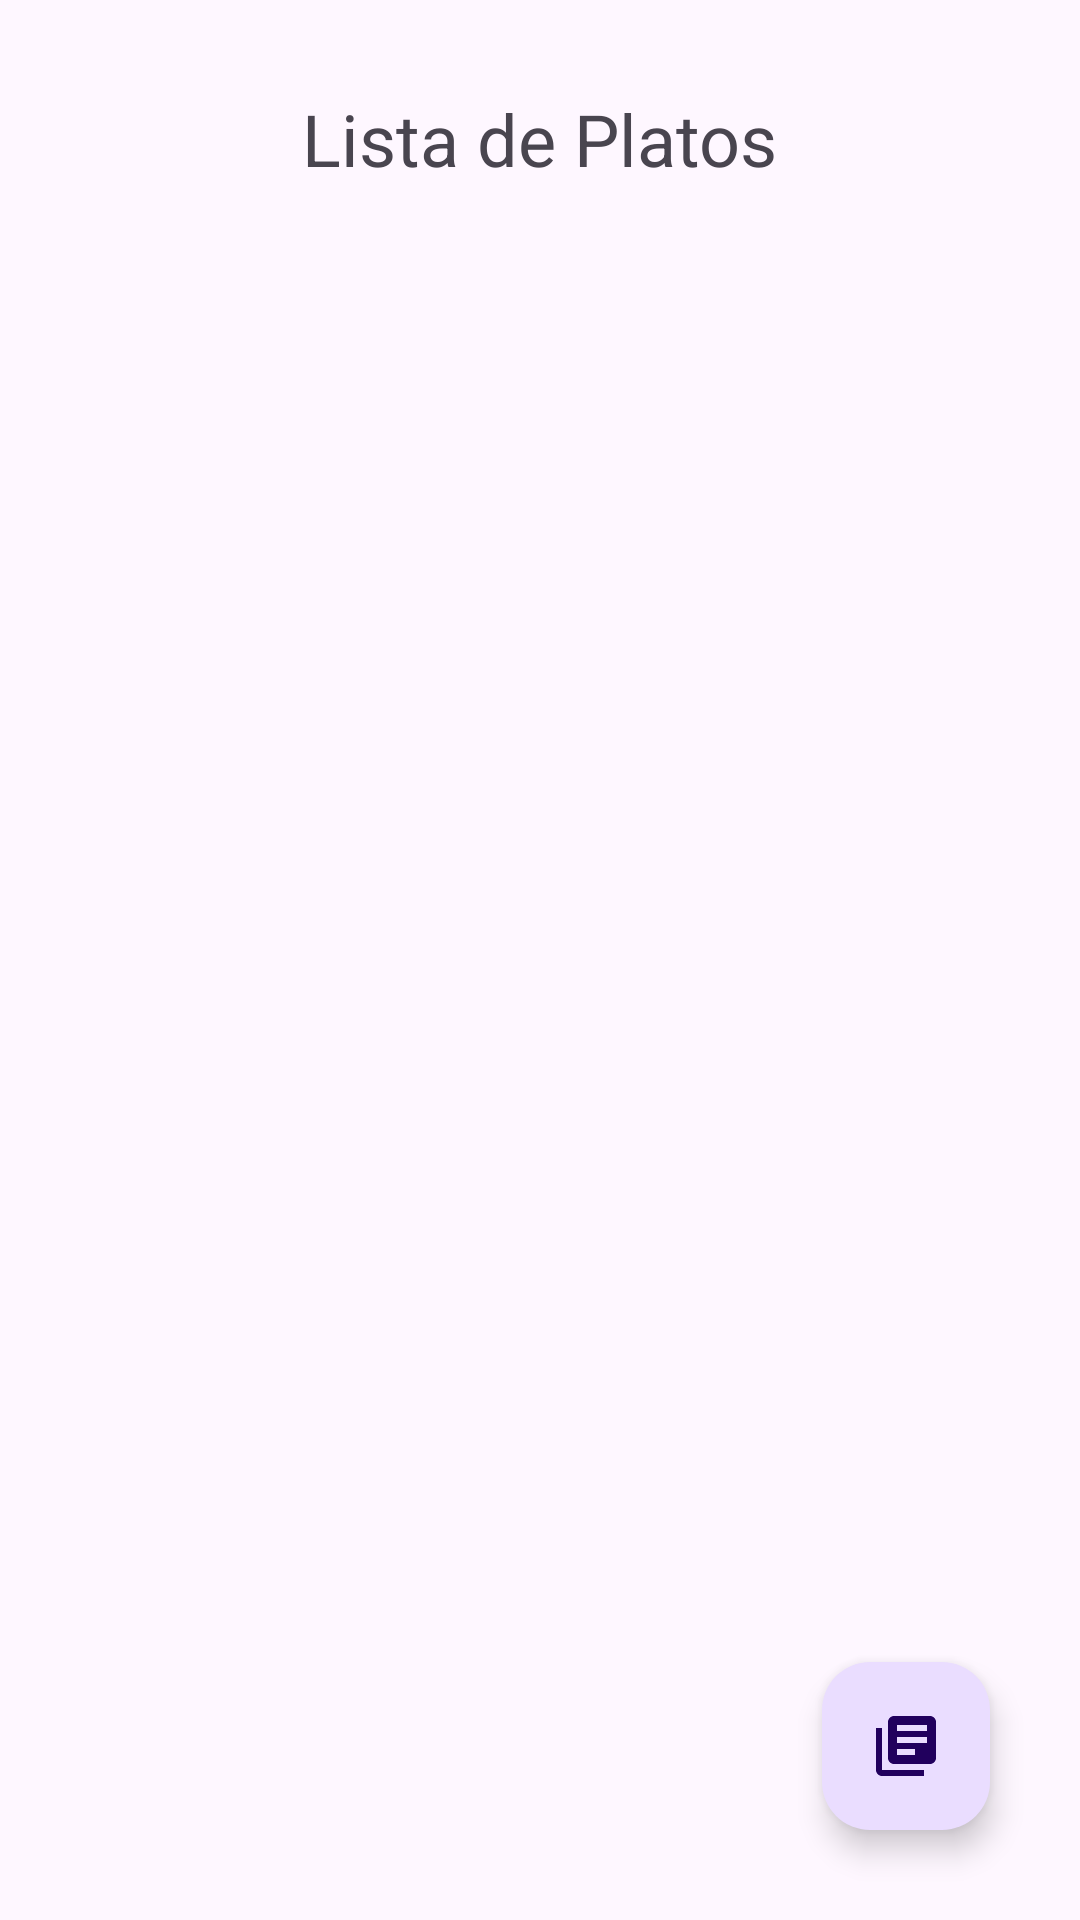

Screen size 1080px×1920px. Icon name, then its center in pixels as (x,y):
note: (906,1746)
